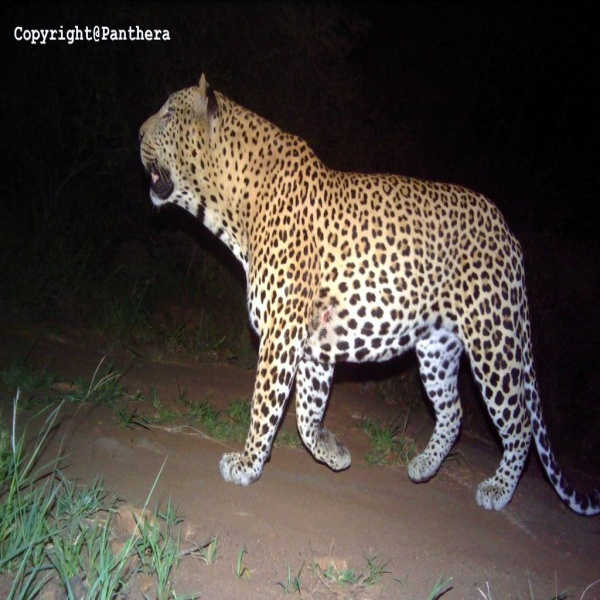Leopard: (136, 70, 600, 523)
